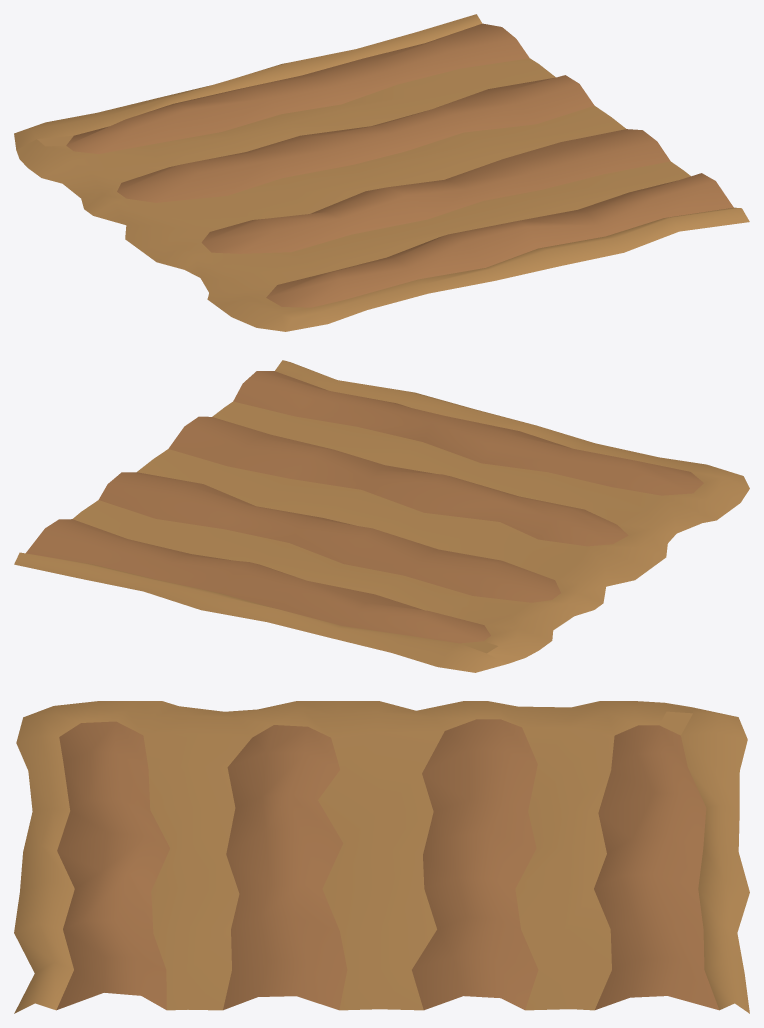
The model's file is Building_model_0_Fieldbackrightleftedge001.fbx.
3 renders of one model, top to bottom at view 1: azimuth 30°, elevation 25°; view 2: azimuth 150°, elevation 25°; view 3: azimuth 270°, elevation 25°, orthographic. The views are drawn at different scales.
Visible parts, largest first — view 1: Building_model_0_Fieldbackrightleftedge001; view 2: Building_model_0_Fieldbackrightleftedge001; view 3: Building_model_0_Fieldbackrightleftedge001.
Boxes of the visible parts, <box> form: Building_model_0_Fieldbackrightleftedge001: <box>14,14,749,331</box>; Building_model_0_Fieldbackrightleftedge001: <box>14,360,749,672</box>; Building_model_0_Fieldbackrightleftedge001: <box>14,701,749,1013</box>.
Size of the model in its own units: 2.9 by 0.0999 by 2.88.
